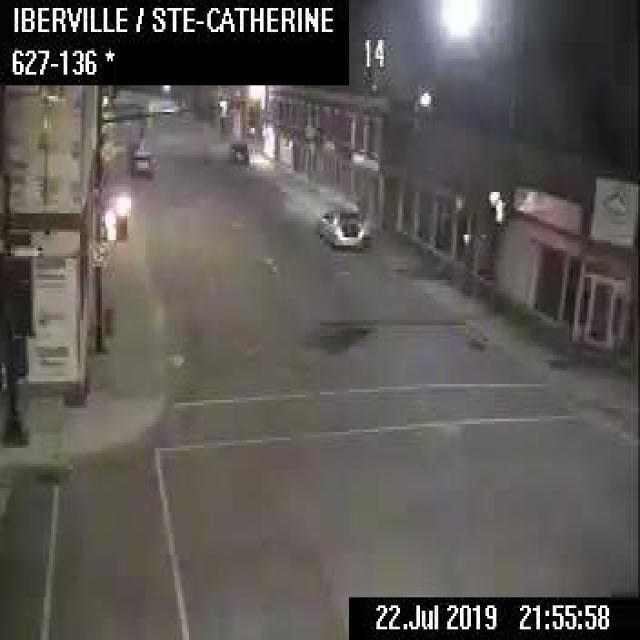vehicle: (316, 205, 366, 248), (228, 137, 248, 164), (130, 148, 151, 173)
